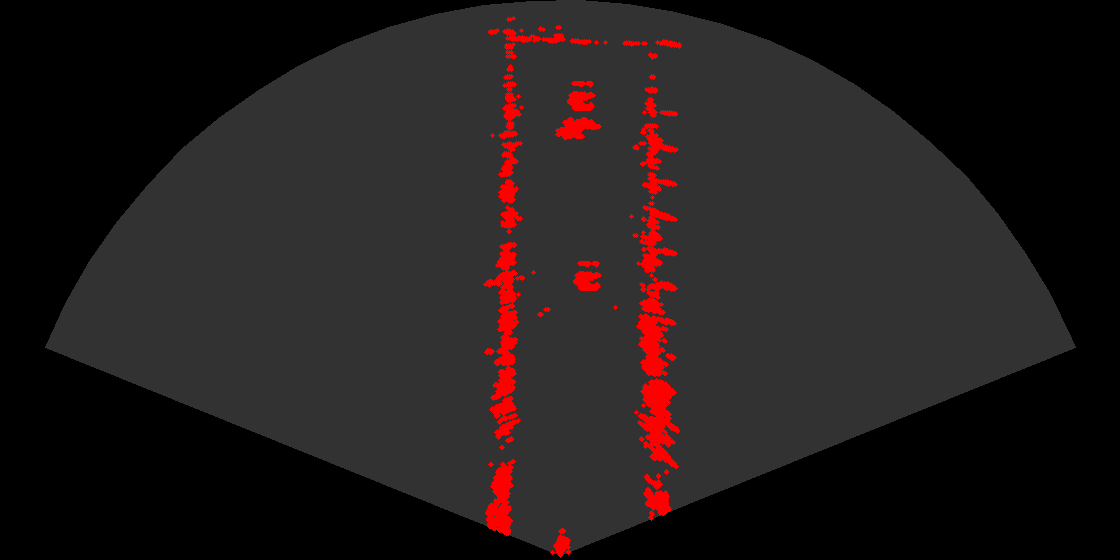AUV: (549, 115, 605, 147)
ball: (553, 253, 613, 294), (547, 73, 607, 114)
